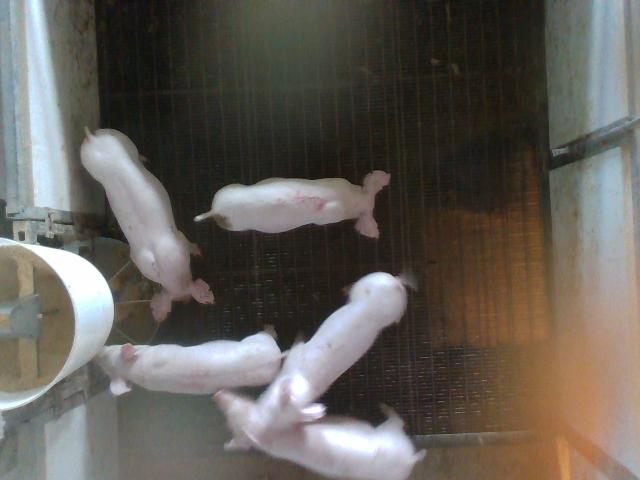pig-4: (96, 331, 284, 394)
pig-5: (195, 170, 391, 237)
